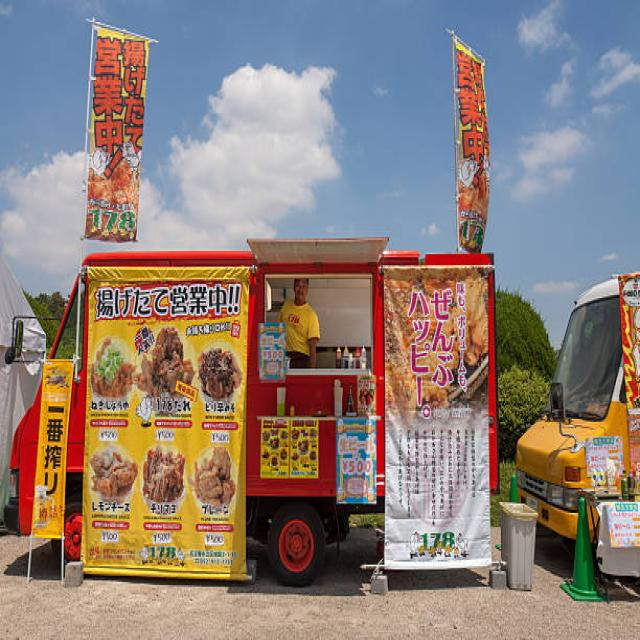Emperan: (4, 238, 501, 594)
